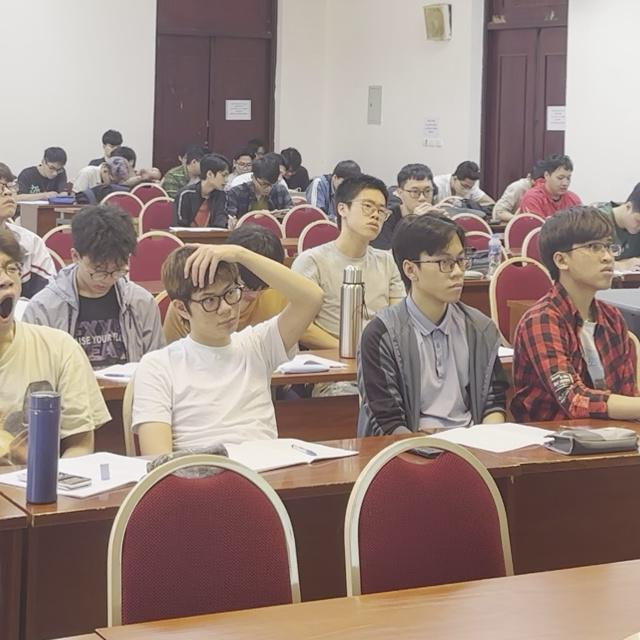Looking away: (65, 210, 140, 301), (545, 167, 574, 198), (448, 174, 479, 196), (252, 173, 277, 196), (274, 163, 303, 181), (43, 161, 66, 183), (213, 167, 232, 192), (329, 399, 330, 399)
Looking forward: (418, 238, 469, 308), (190, 282, 243, 336), (572, 238, 619, 291), (350, 188, 387, 240), (402, 176, 436, 216)
